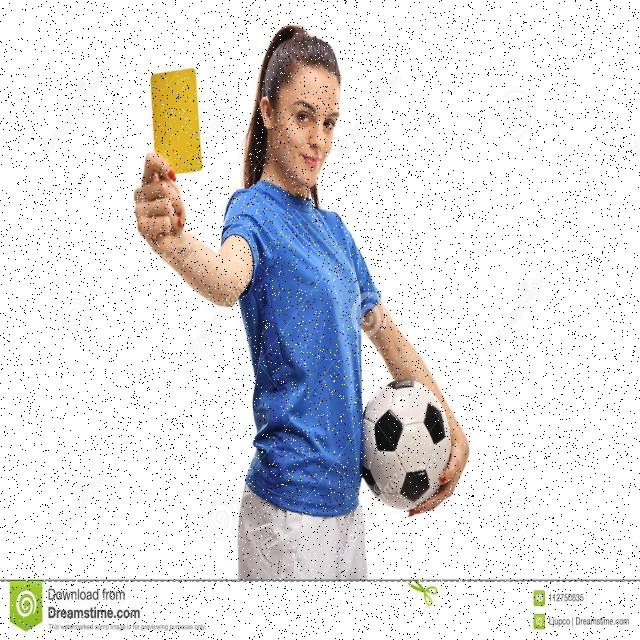yellow-card: (125, 54, 216, 276)
